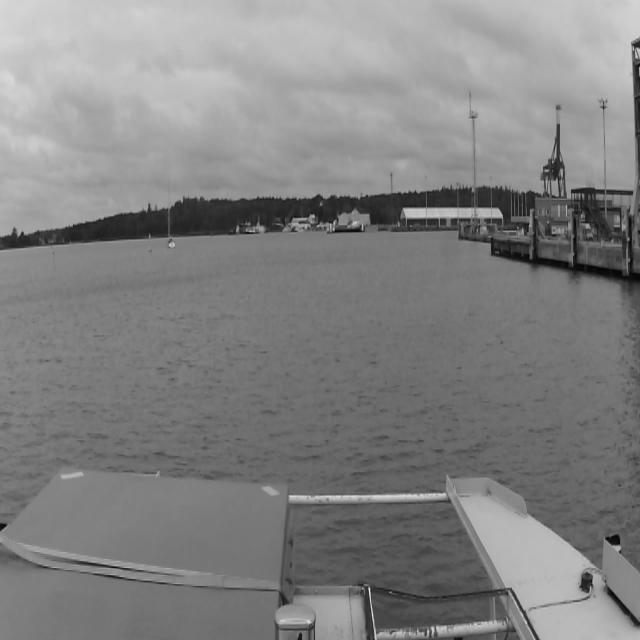buoy: (50, 249, 56, 275), (146, 233, 152, 259)
ship: (165, 189, 177, 249)
